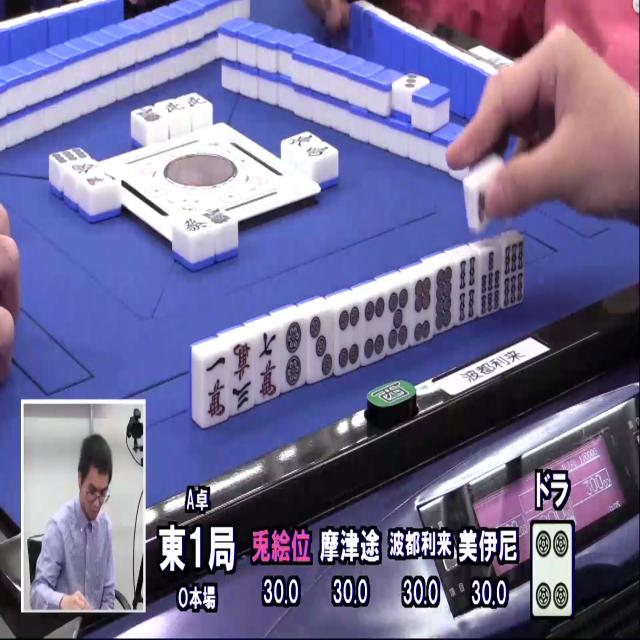1C: (198, 352, 231, 427)
2D: (278, 320, 308, 392)
3C: (228, 340, 258, 416)
3D: (304, 312, 338, 384)
4B: (452, 254, 480, 328)
4D: (530, 520, 577, 616), (335, 303, 365, 376), (360, 292, 390, 364)
5D: (383, 284, 412, 356)
6B: (502, 238, 528, 312)
6D: (407, 275, 436, 347)
7B: (477, 248, 503, 317)
7C: (254, 328, 285, 403)
8D: (432, 264, 458, 334)
